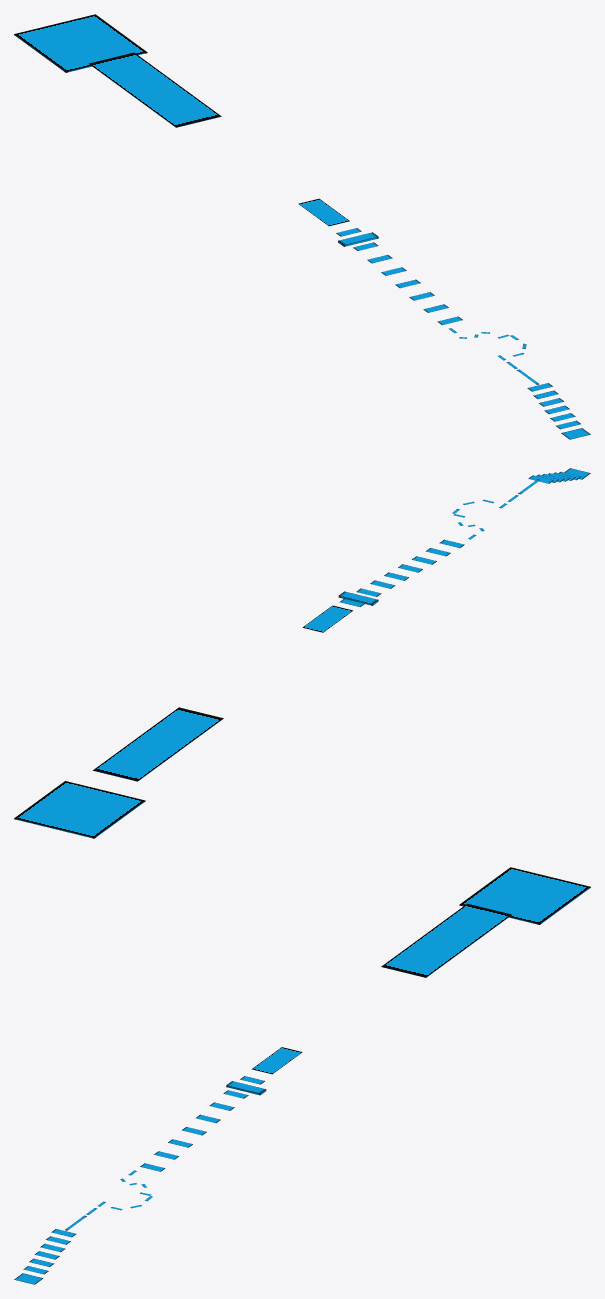
Rendered from Background2.FBX.
The picture shows the model from 3 angles, top to bottom: view 1: azimuth 30°, elevation 25°; view 2: azimuth 150°, elevation 25°; view 3: azimuth 330°, elevation 25°; orthographic projection.
Parts seen in each view (by area): view 1: Background2, Box001; view 2: Background2, Box001; view 3: Background2, Box001.
Boxes of the visible parts, <box> form: Background2: <box>89,52,590,439</box>; Box001: <box>14,14,147,72</box>; Background2: <box>93,468,590,781</box>; Box001: <box>14,781,145,838</box>; Background2: <box>14,903,511,1284</box>; Box001: <box>459,867,590,924</box>.
Bounding box in the file's own units: 2510 × 28233 × 1091.
Materials: 2 (2 with a texture image).
